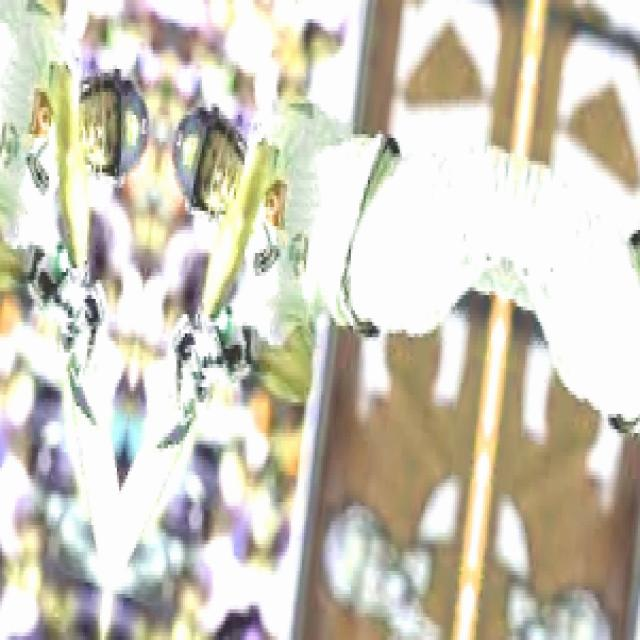toe: (108, 520, 130, 575)
